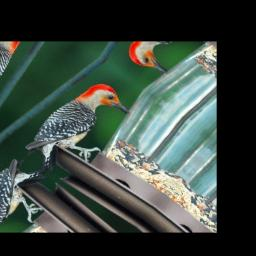Woodpecker: (15, 70, 142, 186)
